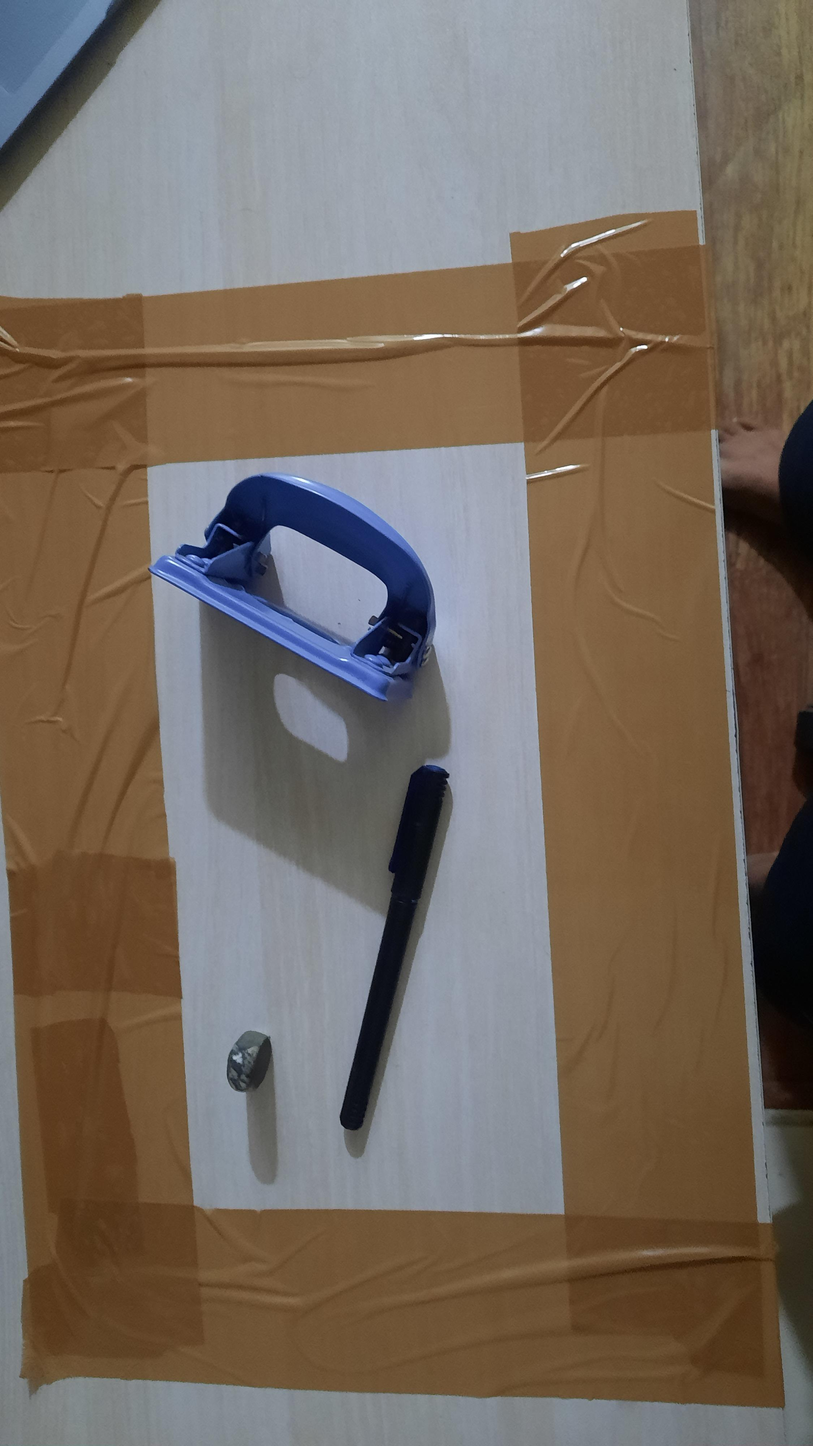Eraser: (226, 1030, 272, 1094)
Pen: (339, 765, 449, 1132)
Punch: (149, 472, 437, 702)
